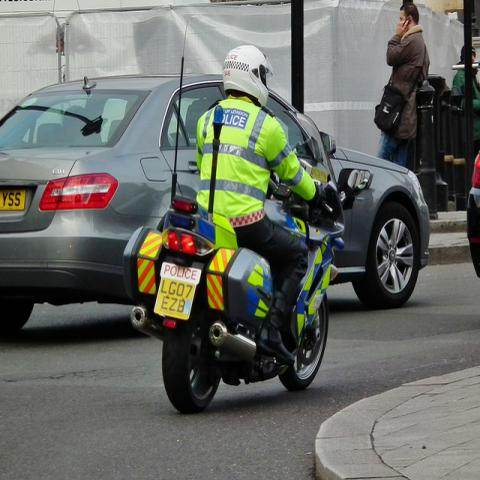car: (1, 73, 431, 332), (466, 152, 480, 279)
motorcycle: (127, 128, 346, 409)
